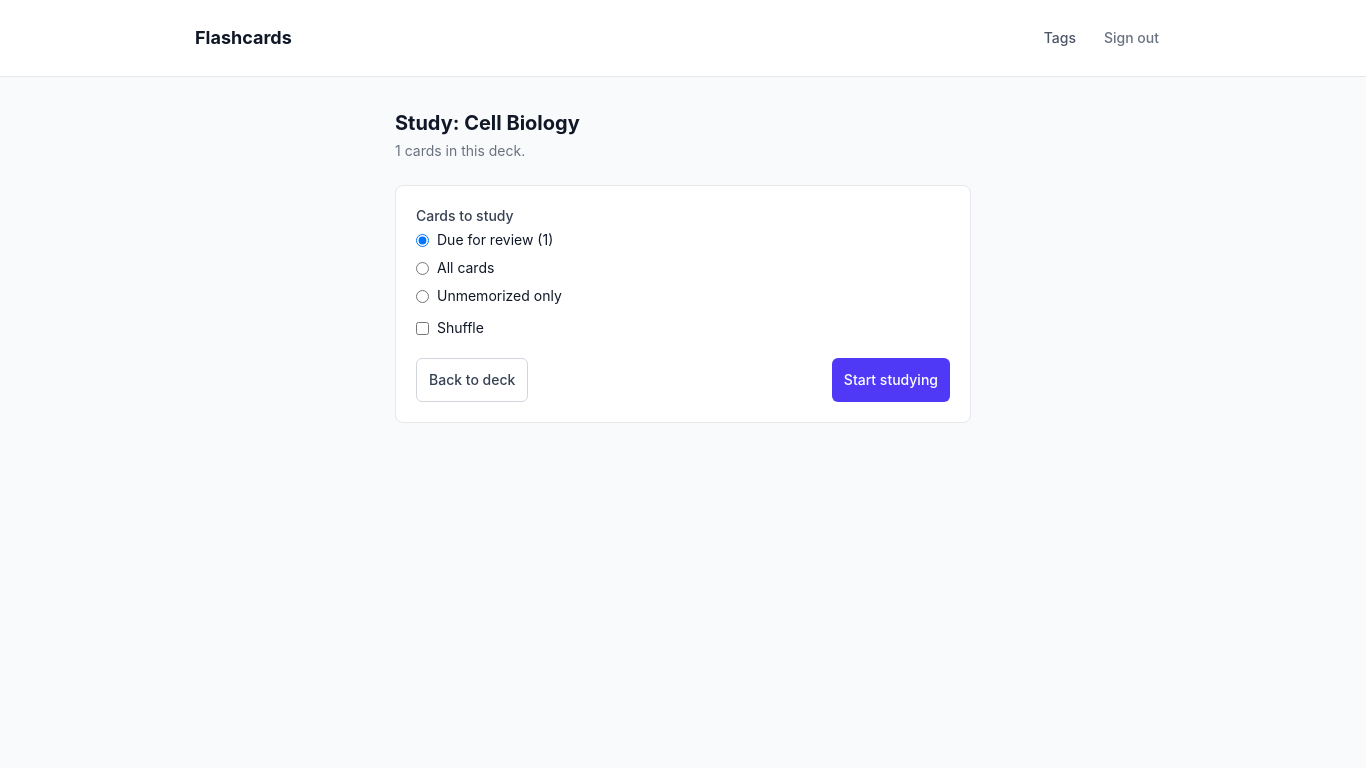
Test case: a failed review toasts and stays on the same card
This screenshot has width=1366, height=768.
Step 1. Click the button "Start studying" → [891, 380], box left=832, top=358, right=950, bottom=402
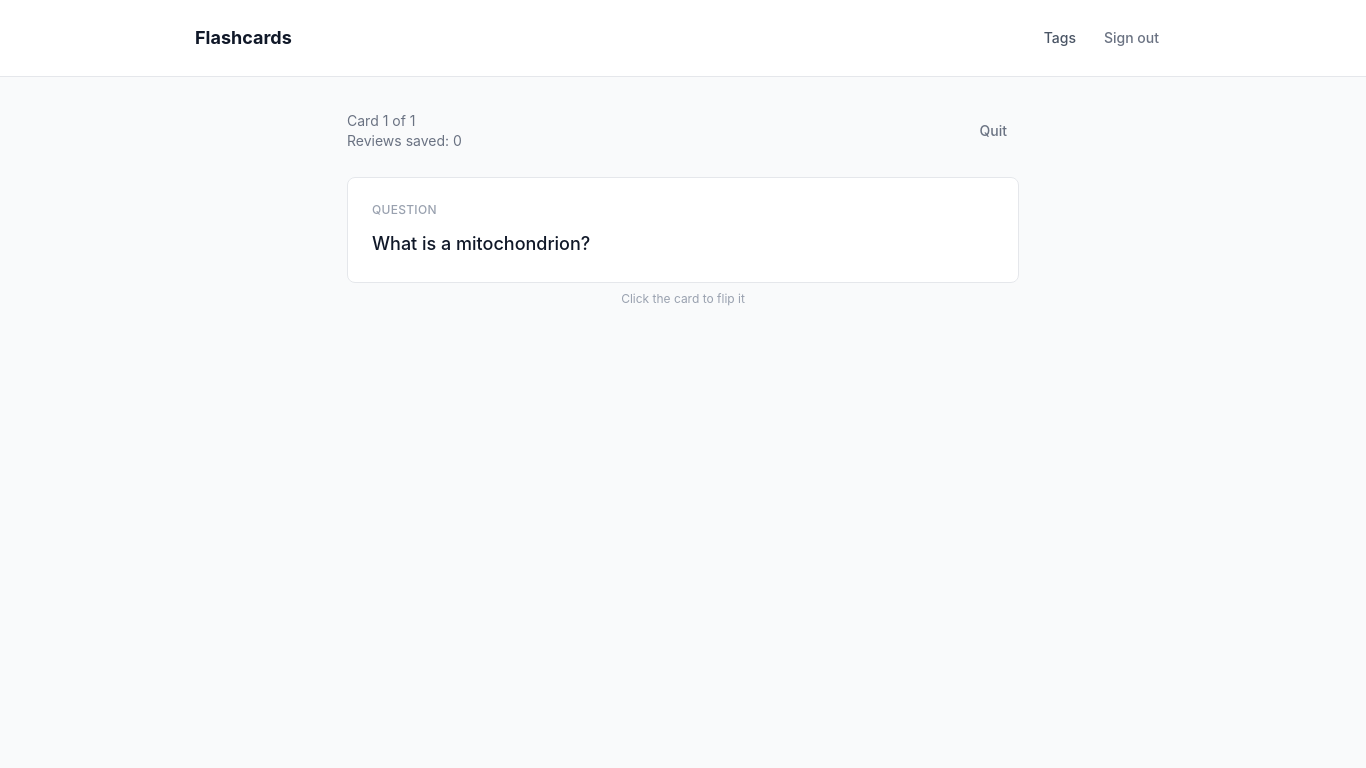
Step 2. Click the button with aria-label "Flip card" → [683, 230], box left=347, top=177, right=1019, bottom=283
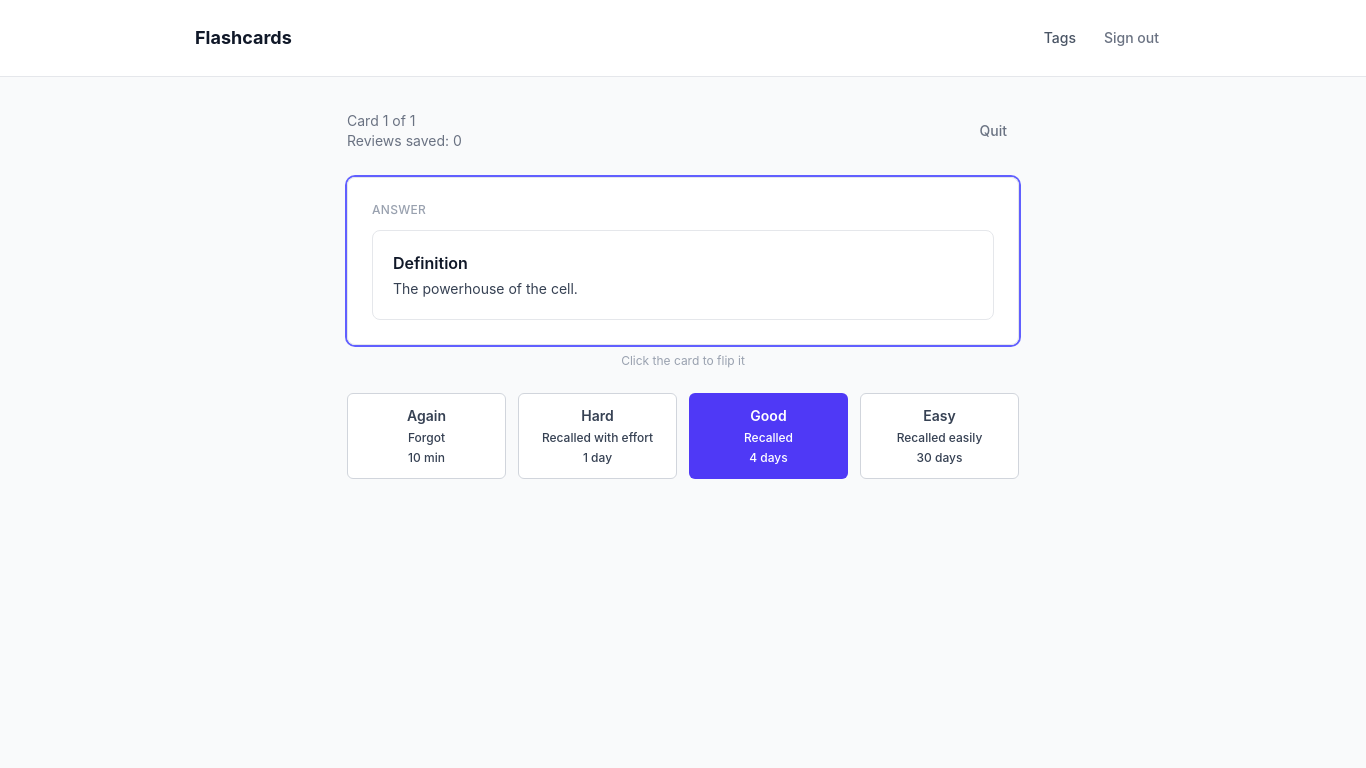
Step 3. Click the button "Good Recalled 4 days" → [768, 436], box left=689, top=393, right=848, bottom=479
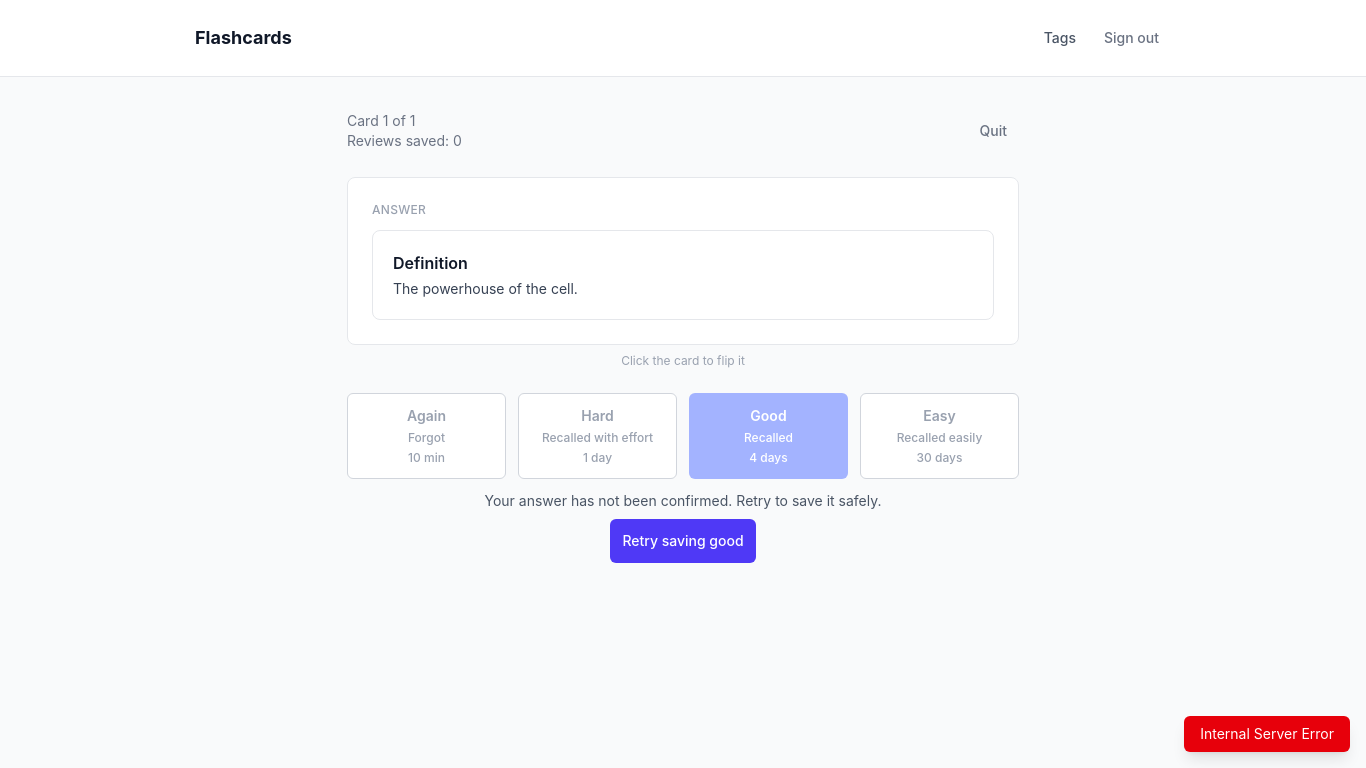
expect the text "Card 1 of 1" is shown: met, box left=347, top=112, right=416, bottom=129
expect the message reads "Internal Server Error": met, box left=1200, top=725, right=1334, bottom=742
